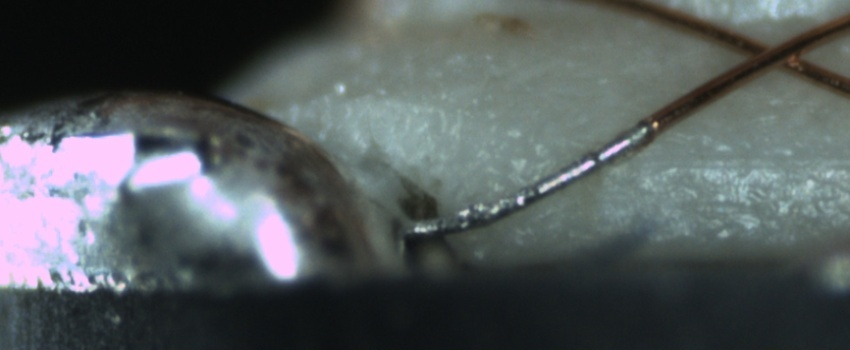CL: (730, 25, 822, 78)
DL: (618, 130, 850, 194)
TS: (405, 117, 653, 235)
